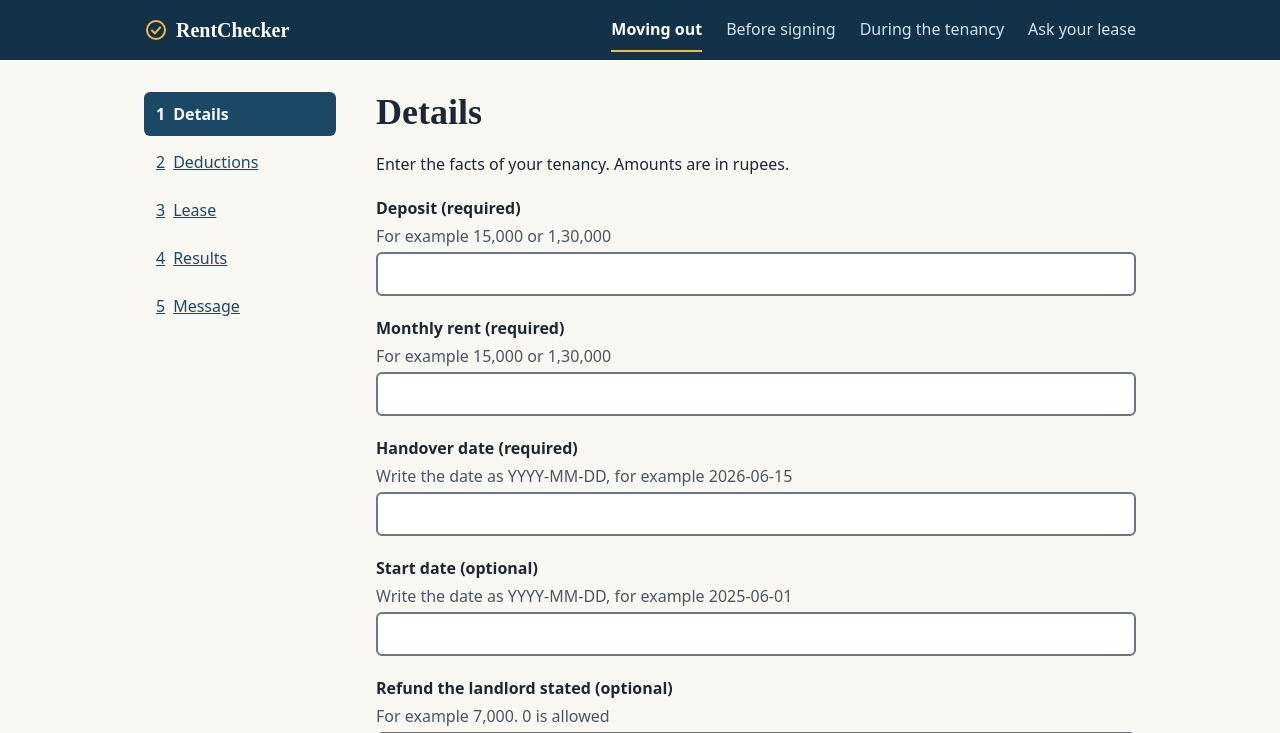
it: Details step › F1-AC6 deposit 0 is rejected next to the field (T-007, T-008)
Step 1. Type "0" into the field labelled "Deposit (required)" → (756, 274), box [376,252,1136,296]
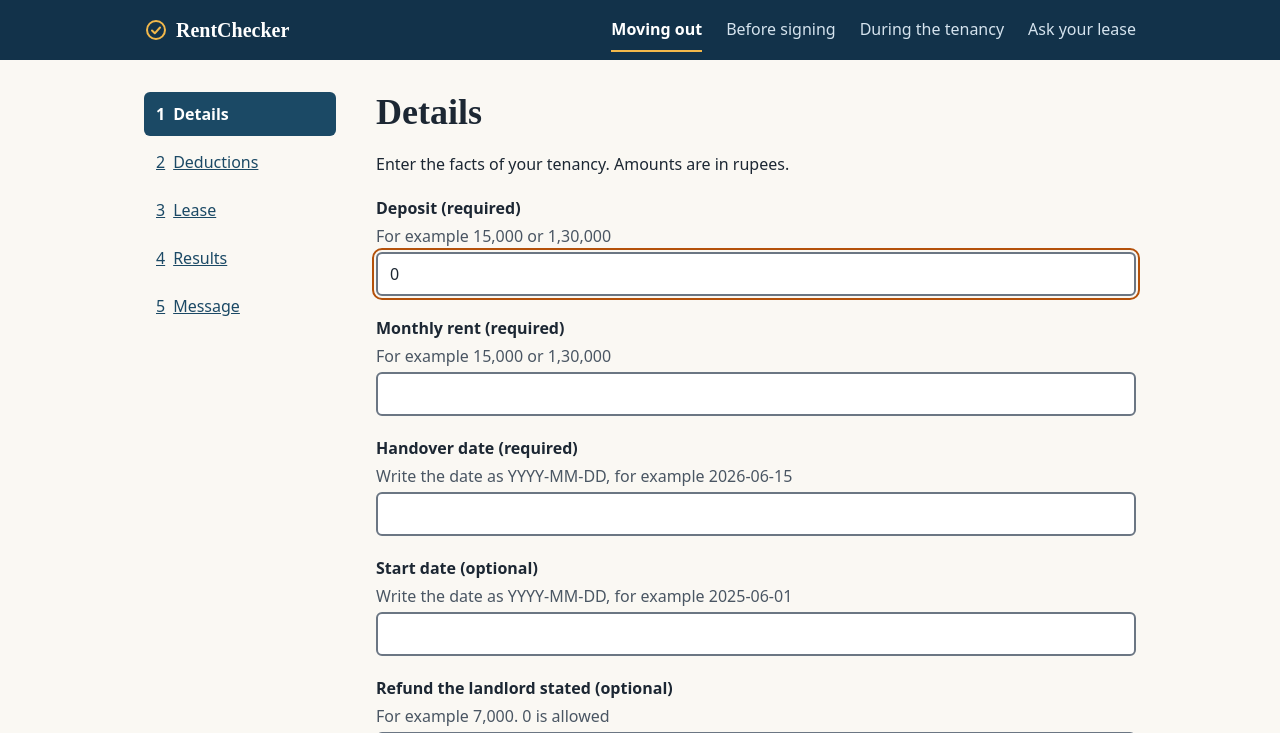
Step 2. Press Tab
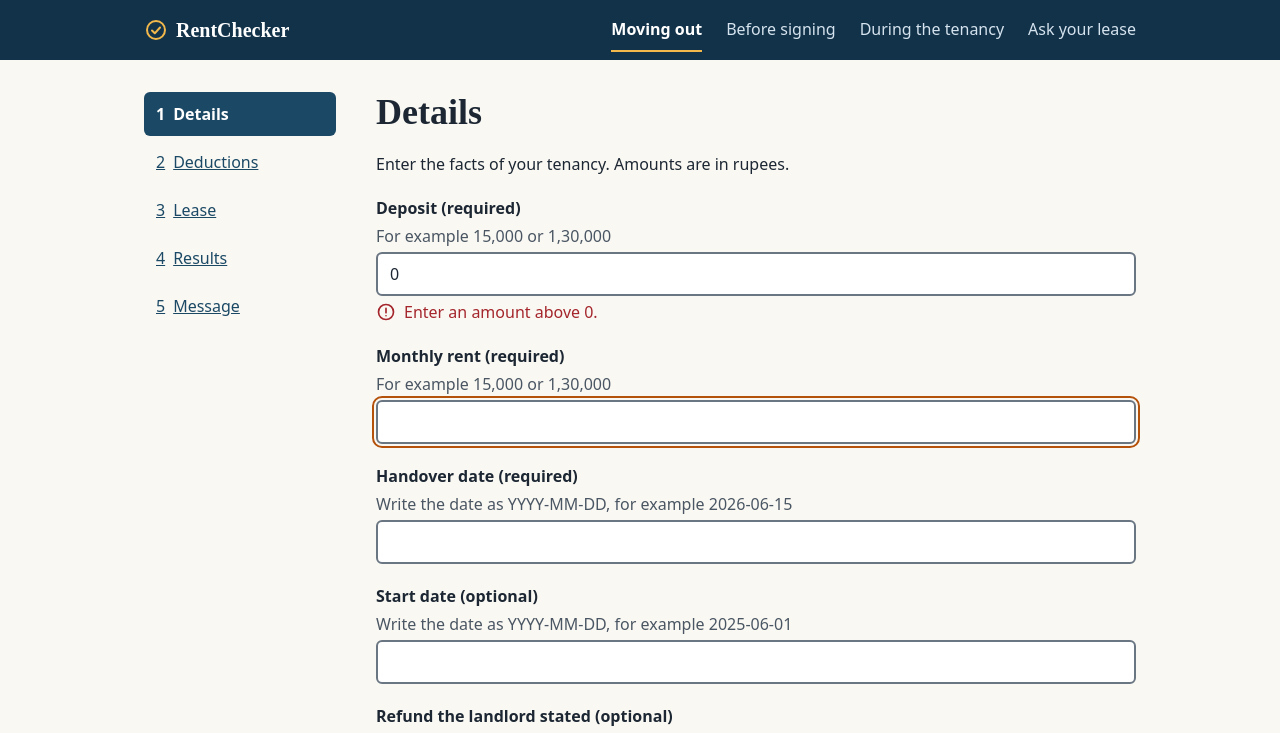
expect the text "Enter an amount above 0." is shown: met, box [404,300,598,324]
